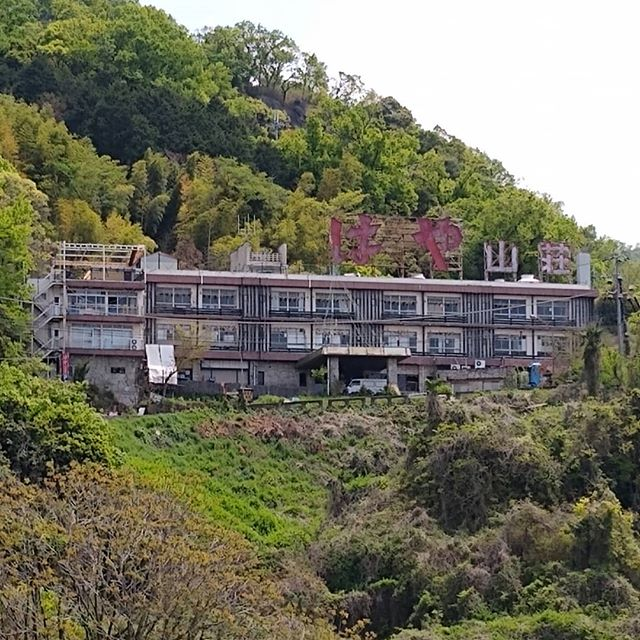building: (44, 247, 607, 417)
vegetation: (1, 389, 640, 640), (1, 1, 560, 268)
